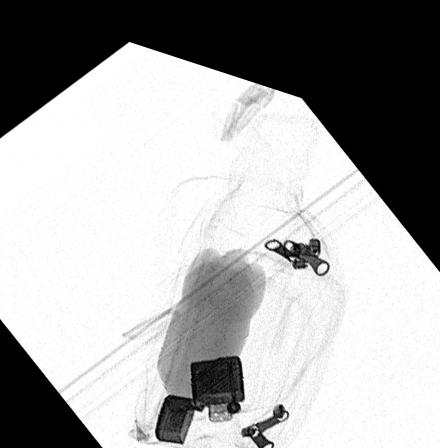Lighter: (154, 339, 245, 432)
